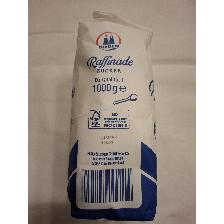Zucker: (66, 10, 160, 222)
